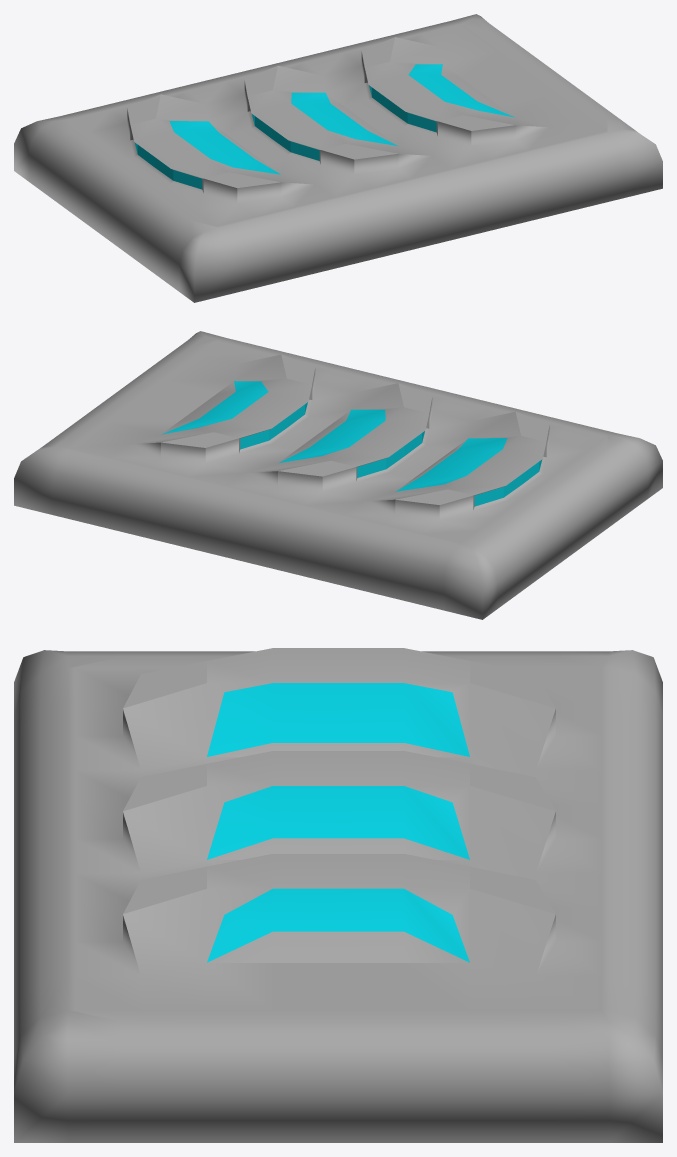
The model's file is Global_SpeedPad.fbx.
3 views of the same model, one above another, from view 1: azimuth 30°, elevation 25°; view 2: azimuth 150°, elevation 25°; view 3: azimuth 270°, elevation 25° (orthographic). The views are drawn at different scales.
Parts seen in each view (by area): view 1: pCube2; view 2: pCube2; view 3: pCube2.
Boxes of the visible parts, x1,y1,x2,y2 form: pCube2: (14,14,662,302); pCube2: (14,331,662,619); pCube2: (14,648,662,1142).
Size of the model in its own units: 9 by 1.31 by 6.
